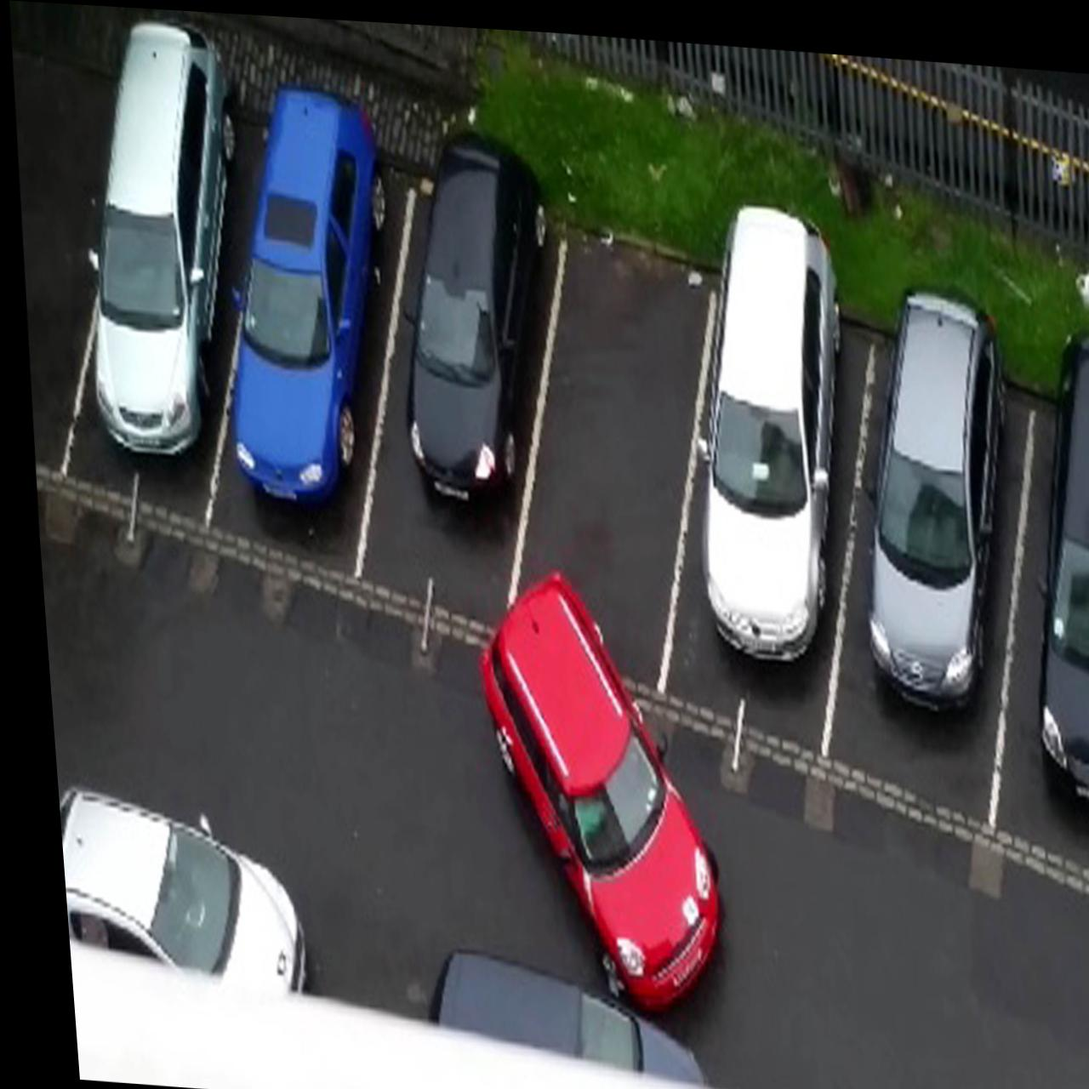cars: (51, 19, 280, 562), (202, 85, 440, 602), (647, 259, 900, 738), (814, 309, 1052, 801), (492, 213, 733, 696), (346, 159, 574, 664), (978, 384, 1089, 900)
